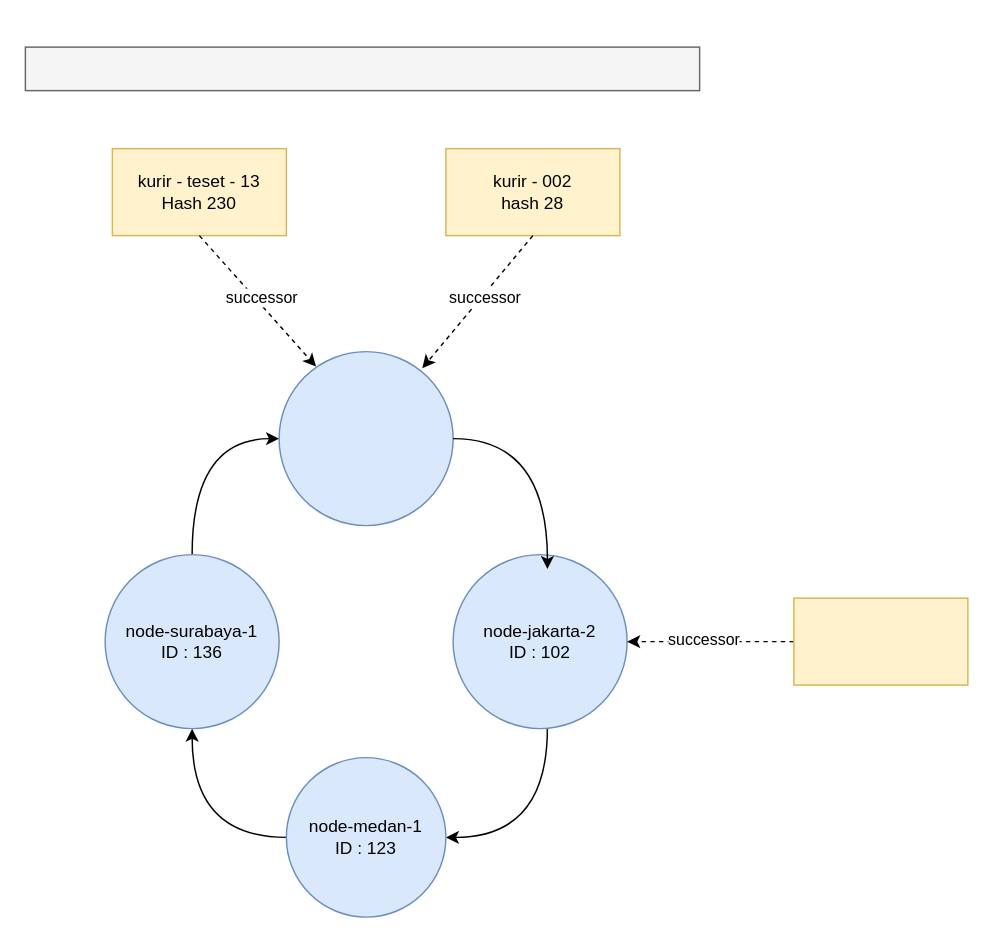
Image size: 993x943. Some labels were removed from this diagram. The centre of each missing label's shape, as x and y in pixels:
"DIAGRAM TOPOLOGI SETELAH LEAVE" belongs at [362,68].
"kurir - 001 hash 50" belongs at [880,641].
"node-bandung-1 ID : 40" belongs at [365,438].
